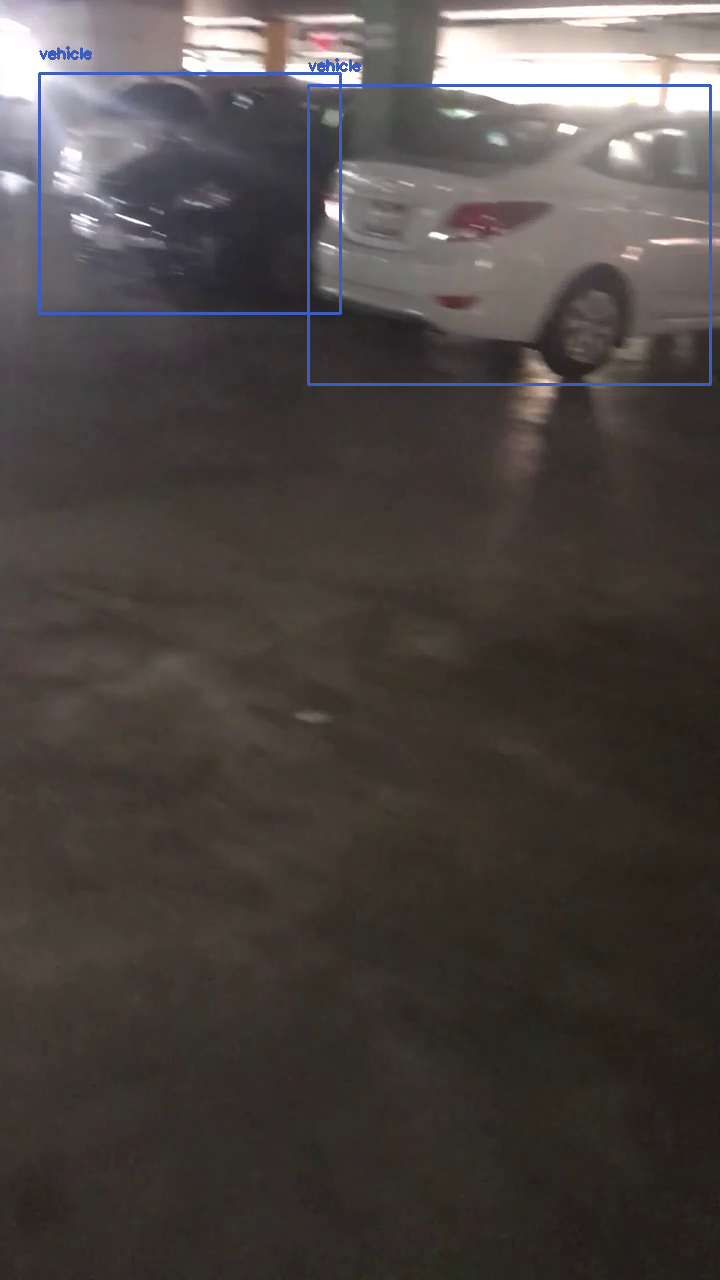vehicle: (308, 85, 710, 384), (39, 73, 340, 313)
